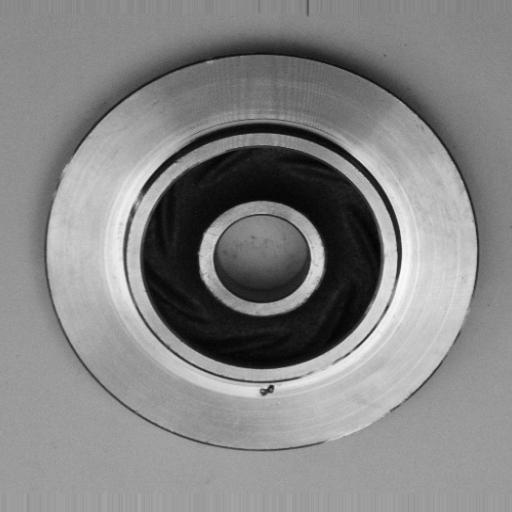crack: (248, 381, 285, 401)
scratch: (310, 402, 416, 466)
unpolished_casting: (40, 48, 481, 456)
